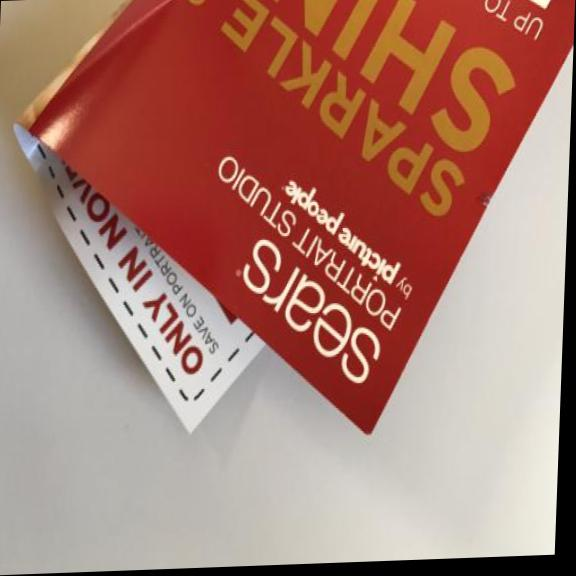Kertas: (0, 0, 574, 477)
